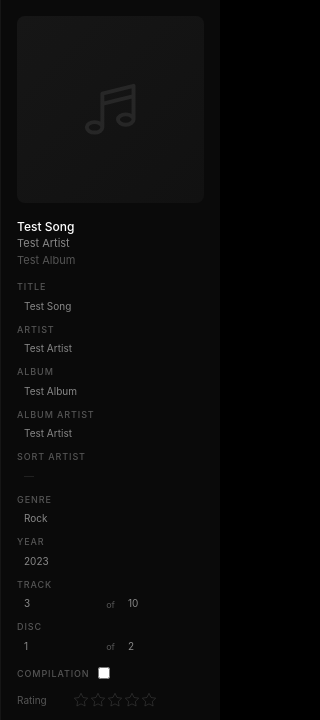
it: TrackDetailPanel › reverts changes on revert click
Click the text "Rock" at (36, 518), box [24,512,48,524]
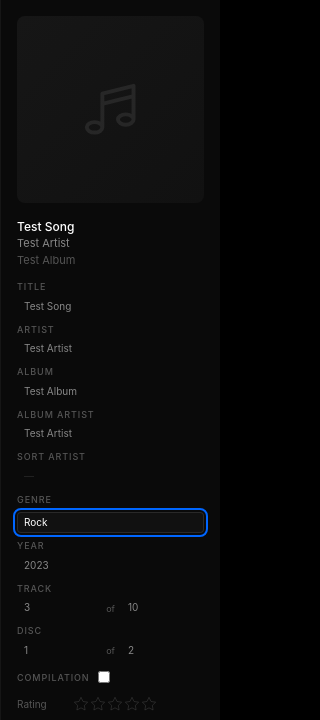
Replace the text in the field showing "Rock" with "Pop" at (110, 522), box [17,512,204,533]
(page scrolled)
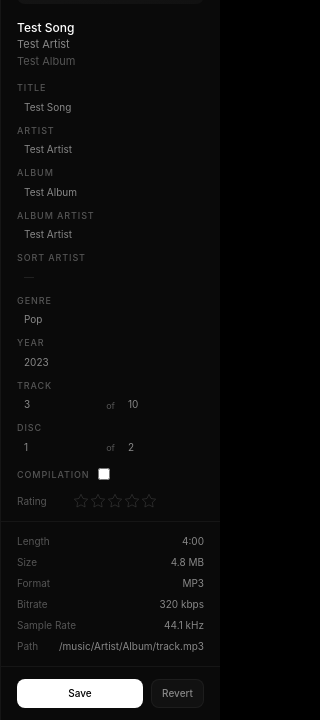
Click the button "Revert" at (178, 694), box [151,679,204,708]
(page scrolled)
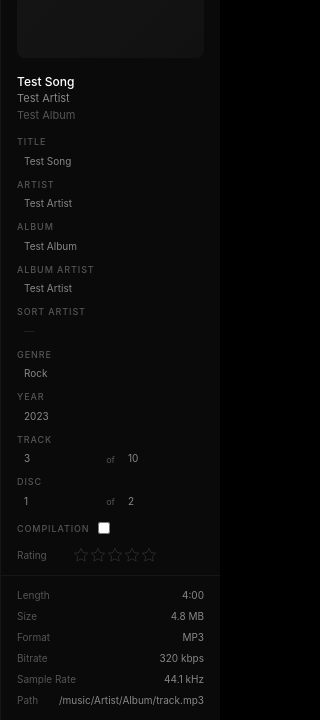
Check: the text "Rock" is shown, box [24,367,48,379]
Check: the button "Save" is gone
